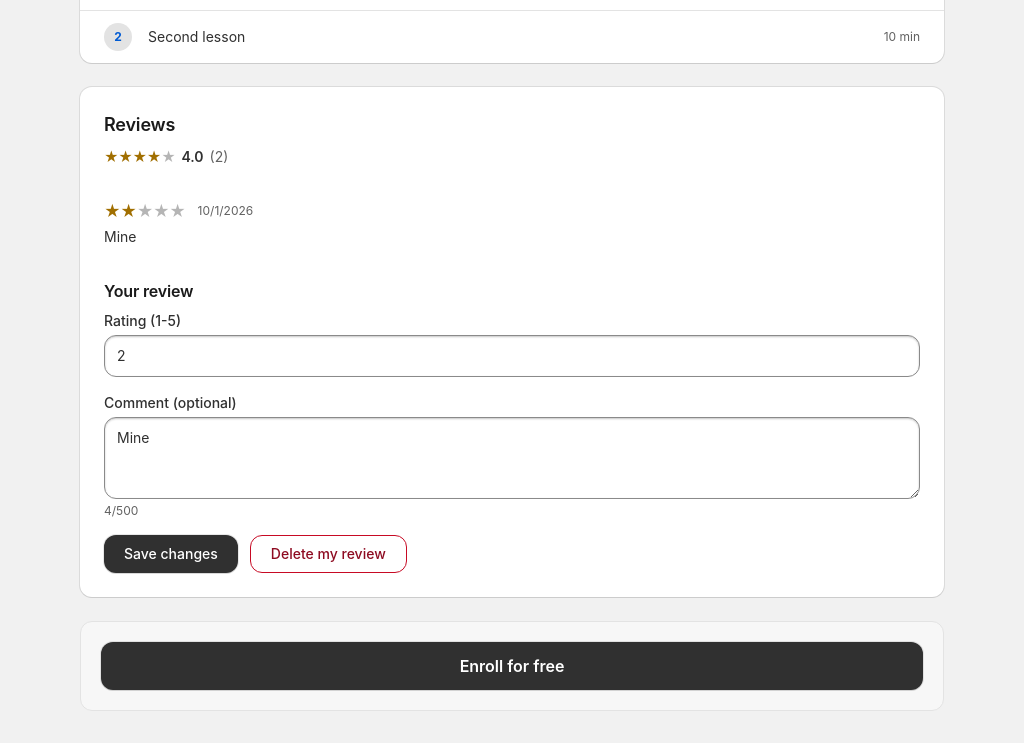
Scenario: CourseDetailPage — reviews › pre-fills the signed-in student's own review and refreshes after deleting it
The image size is (1024, 743).
(page scrolled)
Expected: the number field labelled "Rating (1-5)" holds "2", [104,335,920,377]
Expected: the text box labelled "Comment (optional)" holds "Mine", [104,417,920,499]
Click the button "Delete my review". click: point(328, 554)
box: [250,535,407,573]
(page scrolled)
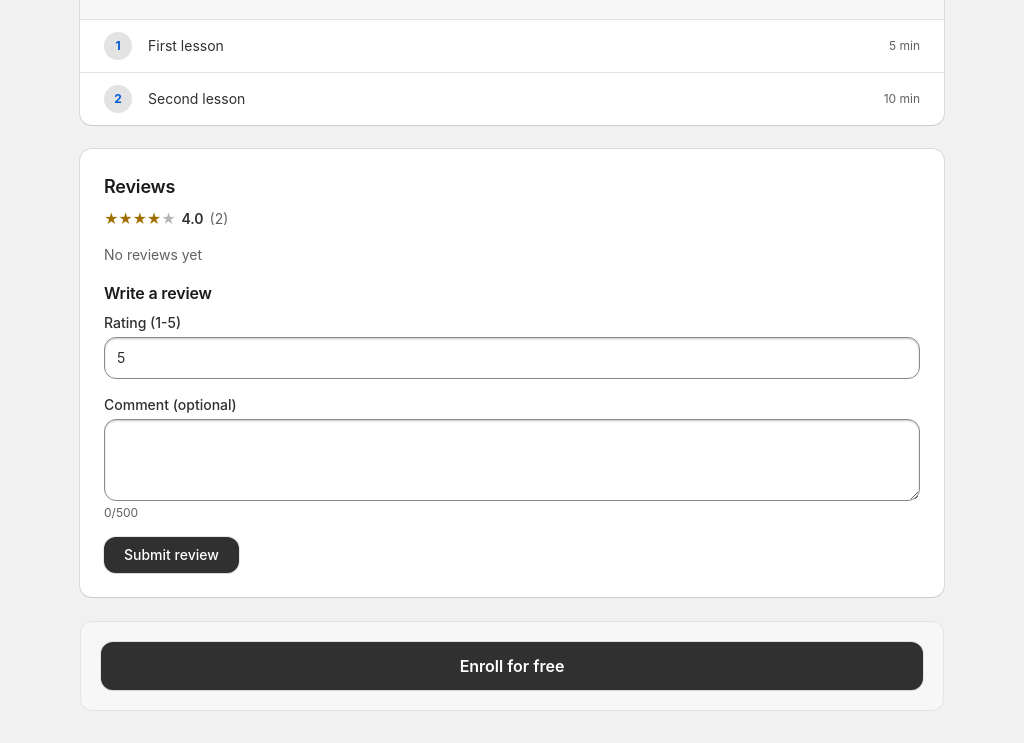
Now the button "Submit review" is shown, box [104,537,239,573]
Now the number field labelled "Rating (1-5)" holds "5", box [104,337,920,379]
